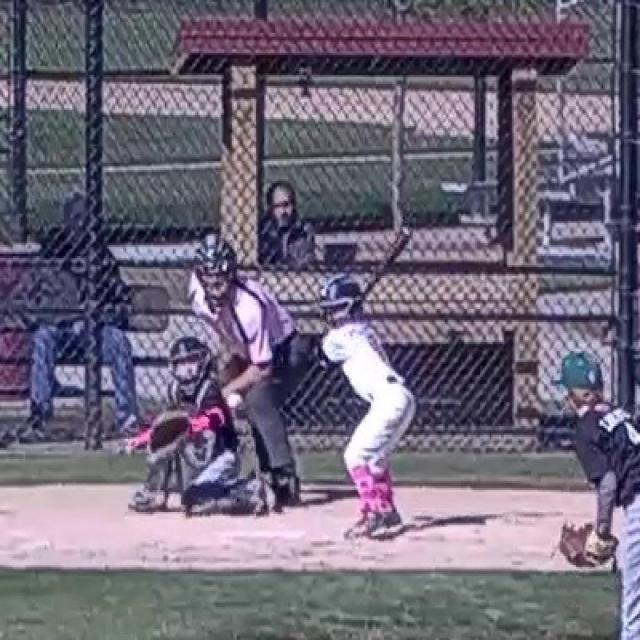baseball: (228, 394, 242, 408)
